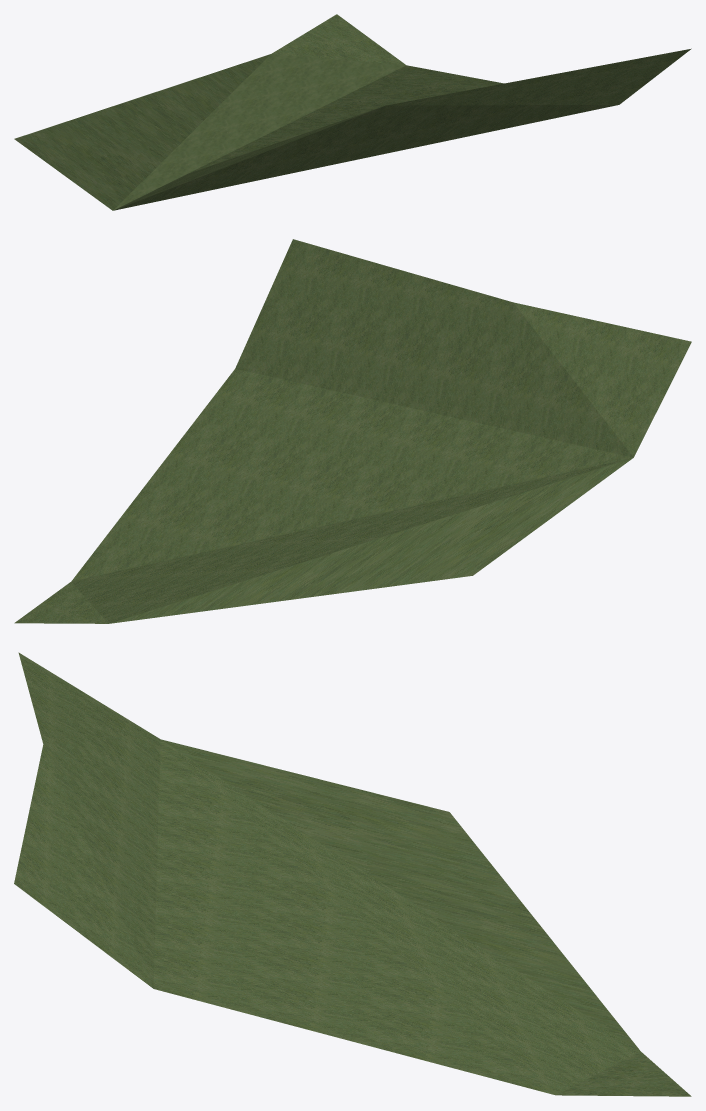
The model's file is LODa_carisle_mid_landmass_00_05.fbx.
The picture shows the model from 3 angles, top to bottom: view 1: azimuth 30°, elevation 25°; view 2: azimuth 150°, elevation 25°; view 3: azimuth 270°, elevation 25°; orthographic projection. The views are drawn at different scales.
Parts seen in each view (by area): view 1: LODa_carisle_mid_landmass_00_05; view 2: LODa_carisle_mid_landmass_00_05; view 3: LODa_carisle_mid_landmass_00_05.
Part boxes in pixels (x1,y1,x2,y2): LODa_carisle_mid_landmass_00_05: [14, 14, 691, 210]; LODa_carisle_mid_landmass_00_05: [14, 239, 691, 623]; LODa_carisle_mid_landmass_00_05: [14, 652, 691, 1096].
Size of the model in its own units: 27.43 by 33.27 by 11.75.
